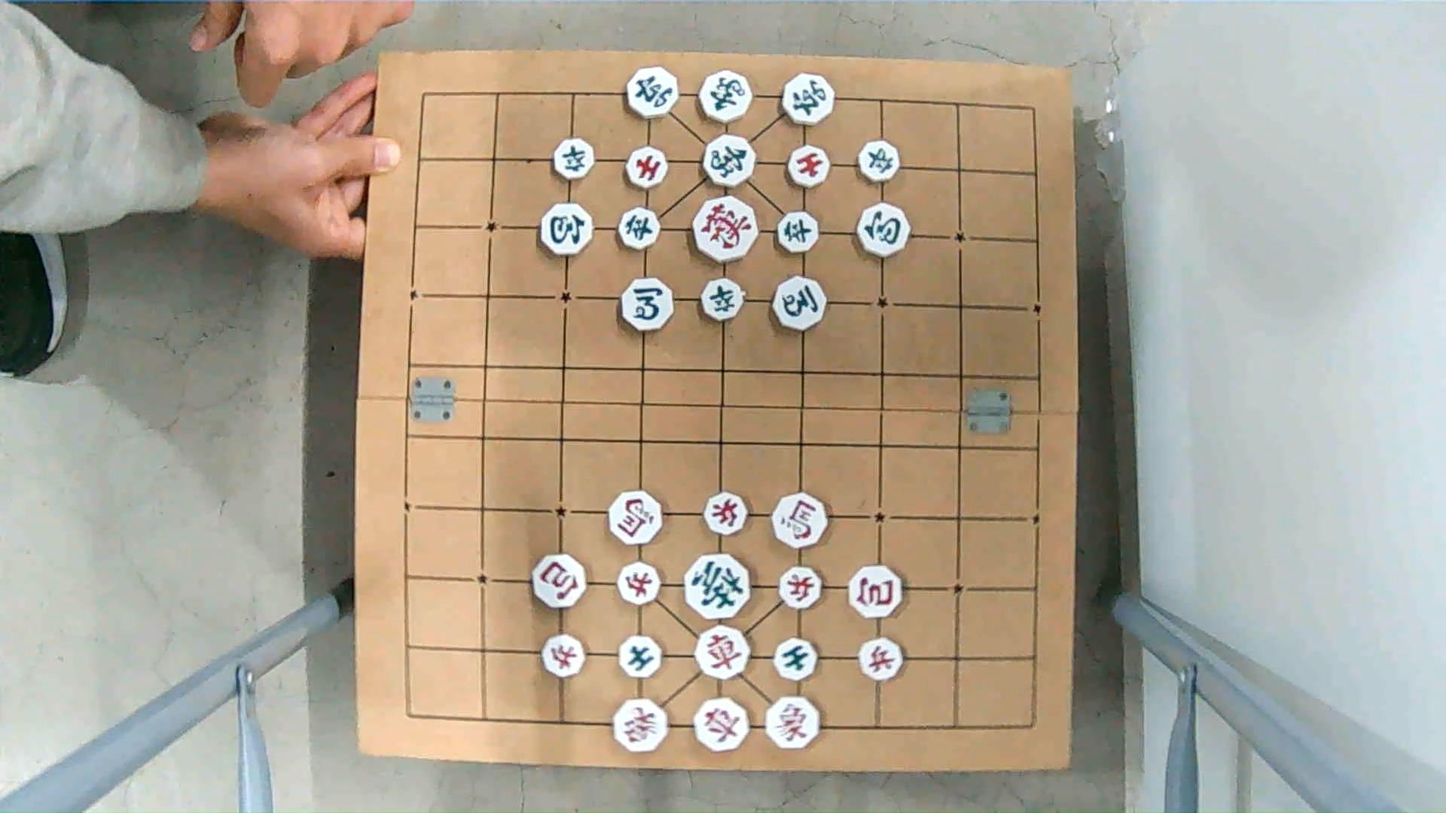cha_green: (779, 75, 839, 121), (624, 72, 683, 117)
cha_red: (691, 702, 753, 751), (693, 630, 755, 679)
jol_green: (617, 210, 666, 248), (703, 277, 746, 319), (858, 142, 905, 180), (776, 212, 820, 252), (550, 139, 596, 177)
jol_red: (856, 639, 906, 678), (777, 568, 827, 607), (703, 494, 753, 533), (615, 564, 665, 602), (538, 636, 587, 673)
ma_green: (616, 282, 676, 331), (772, 278, 830, 326)
ma_red: (605, 496, 667, 545), (770, 496, 830, 545)
po_green: (856, 206, 914, 256), (539, 206, 597, 254)
po_red: (528, 554, 590, 603), (846, 568, 905, 616)
sa_green: (615, 639, 665, 678), (775, 639, 817, 682)
sa_red: (787, 150, 834, 187), (628, 149, 667, 185)
sang_green: (699, 139, 757, 187), (703, 75, 762, 121)
sang_red: (763, 699, 827, 747), (609, 703, 671, 751)
wang_green: (682, 560, 755, 618)
wang_red: (691, 199, 761, 263)
